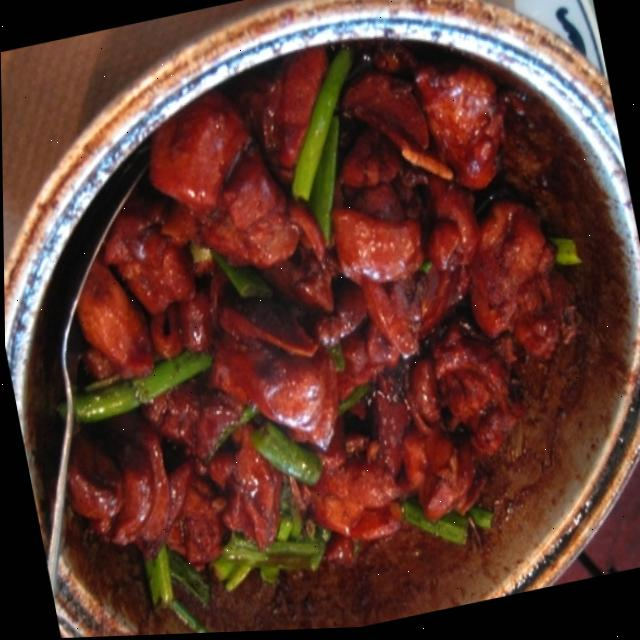鸡肉料理 含炸鸡: (0, 22, 640, 640)
